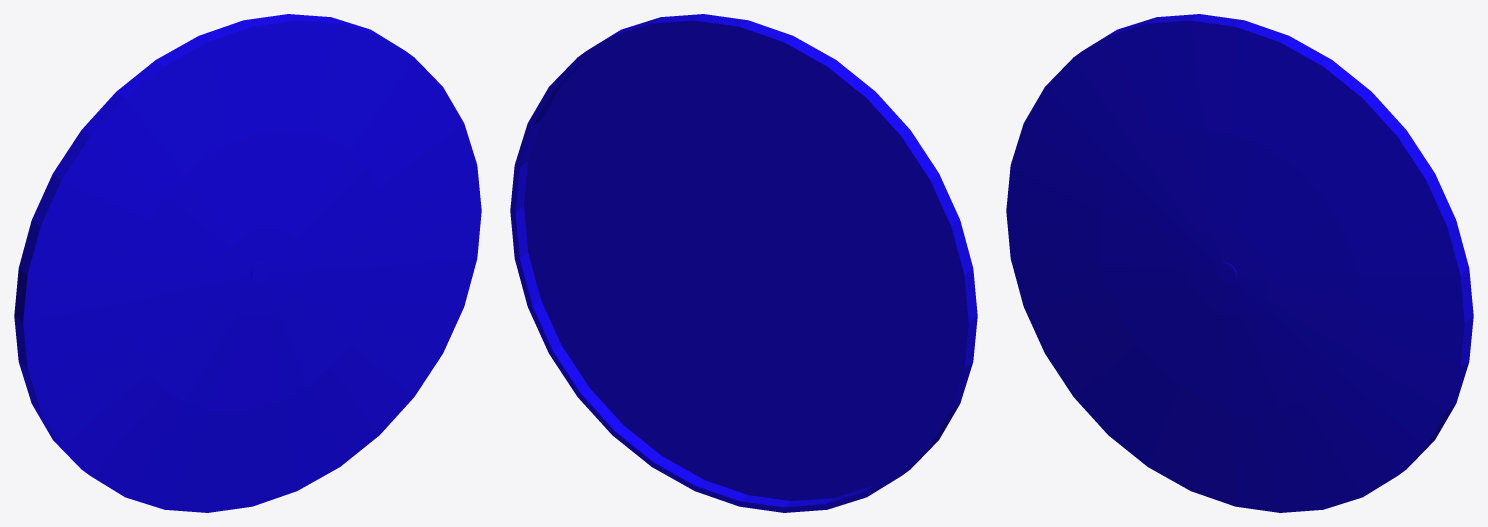
File: disc.fbx
The picture shows the model from 3 angles, left to right: view 1: azimuth 30°, elevation 25°; view 2: azimuth 150°, elevation 25°; view 3: azimuth 330°, elevation 25°; orthographic projection.
Visible parts, largest first — view 1: Cylinder; view 2: Cylinder; view 3: Cylinder.
Boxes of the visible parts, bbox=[...] form: Cylinder: bbox=[14, 14, 481, 512]; Cylinder: bbox=[510, 14, 977, 512]; Cylinder: bbox=[1006, 14, 1473, 512].
Size of the model in its own units: 297 by 297 by 20.57.
